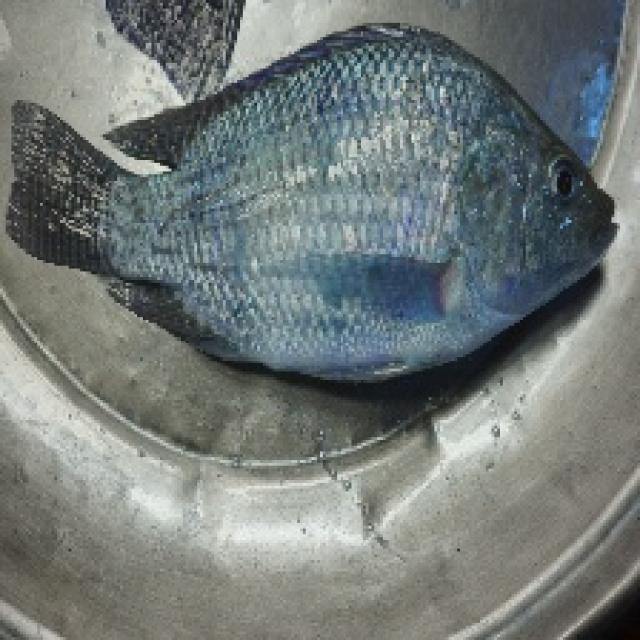Fresh: (194, 22, 624, 387)
